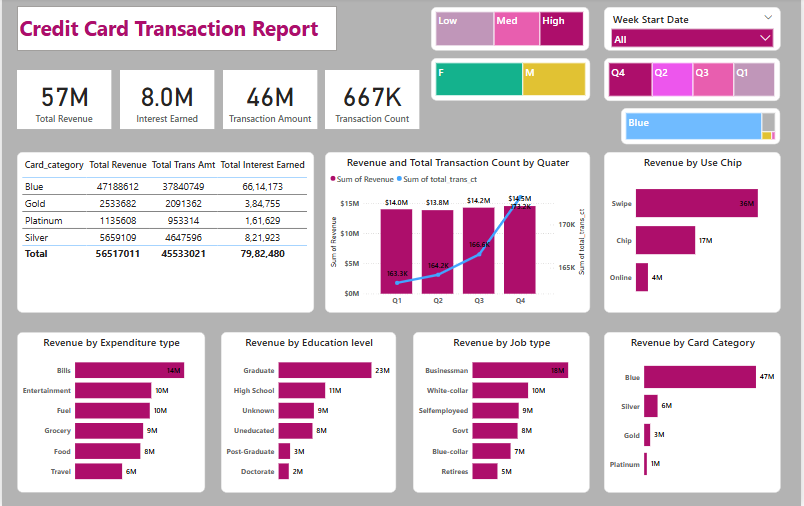

The dashboard page shown, as its layout file describes it:
{"tool":"powerbi","page":{"name":"CC Transaction","canvas":[1650,1050],"ordinal":1},"visuals":[{"type":"textbox","box":[31.7,17.5,660.3,92.1],"z":0},{"type":"lineStackedColumnComboChart","title":"Revenue and Total Transaction Count by Quater","fields":{"Category":["public cc_detail.qtr"],"Y":["Sum(public cc_detail.Revenue)"],"Y2":["Sum(public cc_detail.total_trans_ct)"]},"box":[668.3,317.5,547.6,331.7],"z":1000},{"type":"clusteredBarChart","title":"Revenue by Expenditure type","fields":{"Category":["public cc_detail.exp_type"],"Y":["Measure Table.Total Revenue"]},"box":[31.7,690.5,388.9,331.7],"z":2000},{"type":"clusteredBarChart","title":"Revenue by Education level","fields":{"Y":["Measure Table.Total Revenue"],"Category":["public cust_detail.education_level"]},"box":[452.4,690.5,361.9,331.7],"z":3000},{"type":"clusteredBarChart","title":"Revenue by Job type","fields":{"Y":["Measure Table.Total Revenue"],"Category":["public cust_detail.customer_job"]},"box":[849.2,690.5,365.1,331.7],"z":4000},{"type":"clusteredBarChart","title":"Revenue by Card Category","fields":{"Y":["Measure Table.Total Revenue"],"Category":["public cc_detail.card_category"]},"box":[1244.4,690.5,365.1,331.7],"z":5000},{"type":"clusteredBarChart","title":"Revenue by Use Chip","fields":{"Y":["Measure Table.Total Revenue"],"Category":["public cc_detail.use_chip"]},"box":[1244.4,317.5,365.1,331.7],"z":6000},{"type":"tableEx","fields":{"Values":["public cc_detail.card_category","Measure Table.Total Revenue","Sum(public cc_detail.total_trans_amt)","Sum(public cc_detail.interest_earned)"]},"box":[31.7,317.5,614.3,331.7],"z":7000},{"type":"card","fields":{"Values":["Measure Table.Total Revenue"]},"box":[31.7,149.2,195,122.2],"z":8000},{"type":"card","title":"Interest Earned","fields":{"Values":["Sum(public cc_detail.interest_earned)"]},"box":[243.9,149.2,195,122.2],"z":9000},{"type":"card","fields":{"Values":["Sum(public cc_detail.total_trans_amt)"]},"box":[456.1,149.2,195,122.2],"z":10000},{"type":"card","fields":{"Values":["Sum(public cc_detail.total_trans_ct)"]},"box":[668.3,149.2,195.2,122.2],"z":11000},{"type":"slicer","fields":{"Values":["public cc_detail.week_start_date"]},"box":[1244.4,19,365.1,90.5],"z":12000},{"type":"treemap","fields":{"Group":["public cc_detail.qtr"],"Values":["CountNonNull(public cust_detail.client_num)"]},"box":[1244.6,123.2,364.3,89.3],"z":13000},{"type":"treemap","fields":{"Values":["CountNonNull(public cust_detail.client_num)"],"Group":["public cust_detail.gender"]},"box":[887.5,123.2,328.6,87.5],"z":14000},{"type":"treemap","fields":{"Values":["CountNonNull(public cust_detail.client_num)"],"Group":["public cc_detail.card_category"]},"box":[1280.4,226.8,328.6,75],"z":15000},{"type":"treemap","fields":{"Values":["CountNonNull(public cust_detail.client_num)"],"Group":["public cust_detail.IncomeGroup"]},"box":[887.3,19,327,90.5],"z":16000}]}

Visuals, with their boxes in screenshot pixels (x1, y1, x2, y2), scaled from the page's 1650x1050 canvas onto the 804x506 screenshot:
textbox: detection(15, 8, 337, 53)
"Revenue and Total Transaction Count by Quater" lineStackedColumnComboChart: detection(326, 153, 592, 313)
"Revenue by Expenditure type" clusteredBarChart: detection(15, 333, 205, 493)
"Revenue by Education level" clusteredBarChart: detection(220, 333, 397, 493)
"Revenue by Job type" clusteredBarChart: detection(414, 333, 592, 493)
"Revenue by Card Category" clusteredBarChart: detection(606, 333, 784, 493)
"Revenue by Use Chip" clusteredBarChart: detection(606, 153, 784, 313)
tableEx - public cc_detail.card_category x Measure Table.Total Revenue: detection(15, 153, 315, 313)
card - Measure Table.Total Revenue: detection(15, 72, 110, 131)
"Interest Earned" card: detection(119, 72, 214, 131)
card - Sum(public cc_detail.total_trans_amt): detection(222, 72, 317, 131)
card - Sum(public cc_detail.total_trans_ct): detection(326, 72, 421, 131)
slicer - public cc_detail.week_start_date: detection(606, 9, 784, 53)
treemap - public cc_detail.qtr x CountNonNull(public cust_detail.client_num): detection(606, 59, 784, 102)
treemap - CountNonNull(public cust_detail.client_num) x public cust_detail.gender: detection(432, 59, 593, 102)
treemap - CountNonNull(public cust_detail.client_num) x public cc_detail.card_category: detection(624, 109, 784, 145)
treemap - CountNonNull(public cust_detail.client_num) x public cust_detail.IncomeGroup: detection(432, 9, 592, 53)
